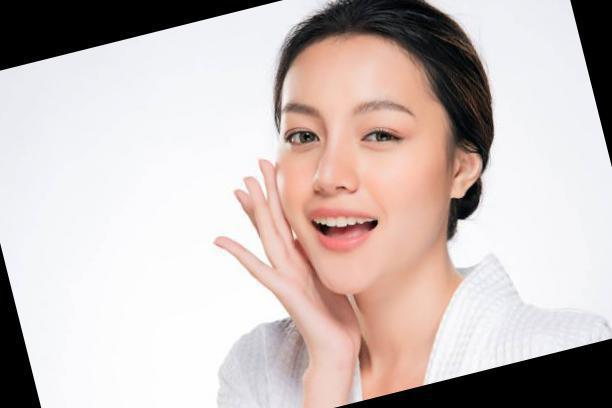Sober: (279, 54, 445, 277)
